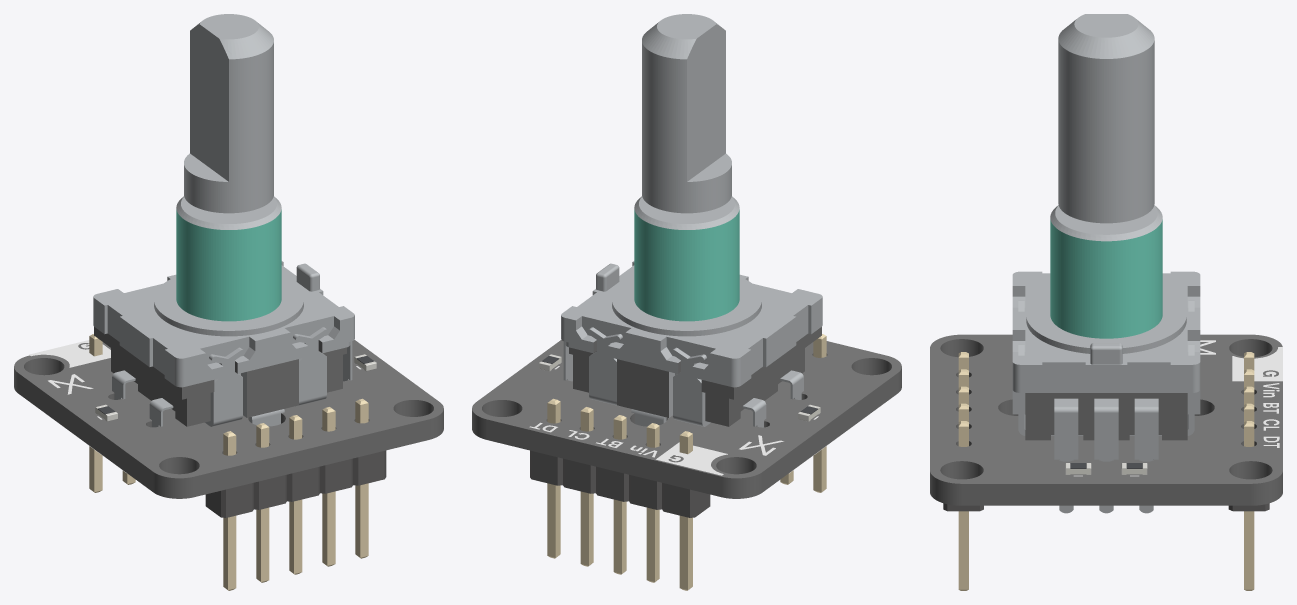
The picture shows the model from 3 angles, left to right: view 1: azimuth 30°, elevation 25°; view 2: azimuth 150°, elevation 25°; view 3: azimuth 270°, elevation 25°; orthographic projection. The views are drawn at different scales.
Visible parts, largest first — view 1: Node3, Node10, Node5, Node2, Node4, Node1, Node9; view 2: Node3, Node10, Node5, Node2, Node4, Node1, Node9; view 3: Node3, Node10, Node5, Node4, Node2, Node9, Node1.
Part boxes in pixels (x1=…): Node3: x1=93, y1=14, x2=354, y2=427; Node10: x1=14, y1=340, x2=443, y2=498; Node5: x1=176, y1=209, x2=281, y2=321; Node2: x1=89, y1=334, x2=368, y2=590; Node4: x1=94, y1=327, x2=346, y2=426; Node1: x1=205, y1=450, x2=386, y2=517; Node9: x1=29, y1=340, x2=360, y2=472; Node3: x1=561, y1=14, x2=822, y2=427; Node10: x1=472, y1=340, x2=901, y2=498; Node5: x1=634, y1=209, x2=739, y2=321; Node2: x1=547, y1=334, x2=826, y2=590; Node4: x1=569, y1=327, x2=821, y2=426; Node1: x1=530, y1=450, x2=710, y2=517; Node9: x1=529, y1=366, x2=869, y2=475; Node3: x1=1012, y1=14, x2=1200, y2=513; Node10: x1=930, y1=334, x2=1282, y2=505; Node5: x1=1050, y1=219, x2=1162, y2=338; Node4: x1=1025, y1=393, x2=1187, y2=440; Node2: x1=958, y1=352, x2=1254, y2=590; Node9: x1=1074, y1=340, x2=1282, y2=476; Node1: x1=943, y1=503, x2=1269, y2=511.
Size of the model in its own units: 22 by 36.54 by 22.
